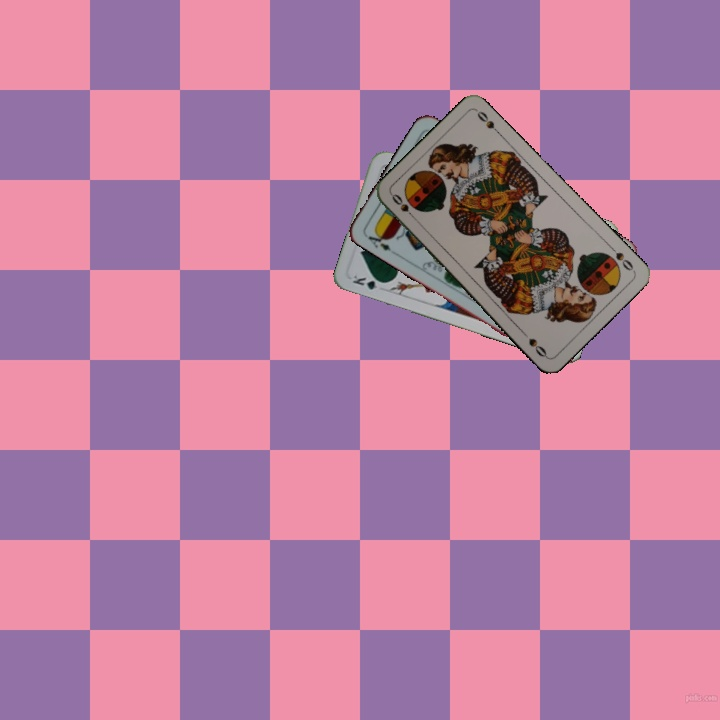EA: (361, 227, 394, 254)
GK: (349, 269, 388, 292)
SO: (388, 190, 420, 223), (605, 241, 637, 274)
